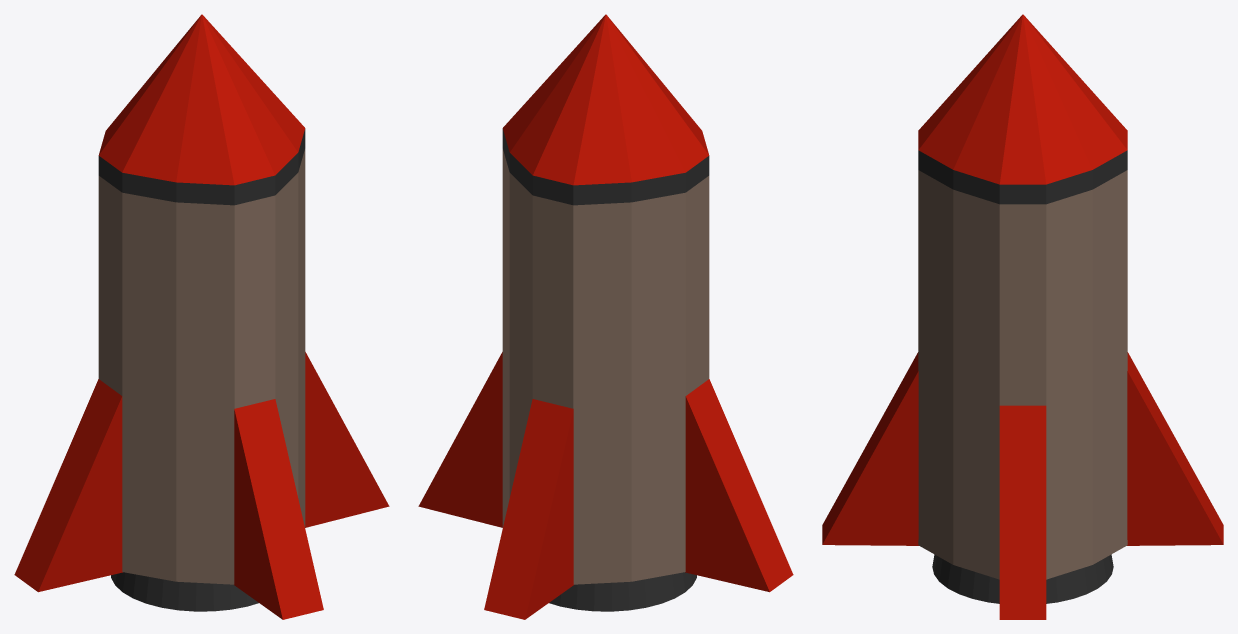
The model's file is Rocket.fbx.
The picture shows the model from 3 angles, left to right: view 1: azimuth 30°, elevation 25°; view 2: azimuth 150°, elevation 25°; view 3: azimuth 270°, elevation 25°; orthographic projection.
Visible parts, largest first — view 1: Body, Fin1.001, Fin1; view 2: Body, Fin1.001, Fin1; view 3: Body, Fin1, Fin1.001.
Boxes of the visible parts, x1,y1,x2,y2 form: Body: (98,14,305,611); Fin1.001: (14,352,389,592); Fin1: (234,399,323,619); Body: (502,14,709,611); Fin1.001: (418,352,793,592); Fin1: (484,399,573,619); Body: (918,14,1127,603); Fin1: (822,352,1223,545); Fin1.001: (999,405,1046,619).
Bounding box in the file's own units: 576 × 875 × 576.
